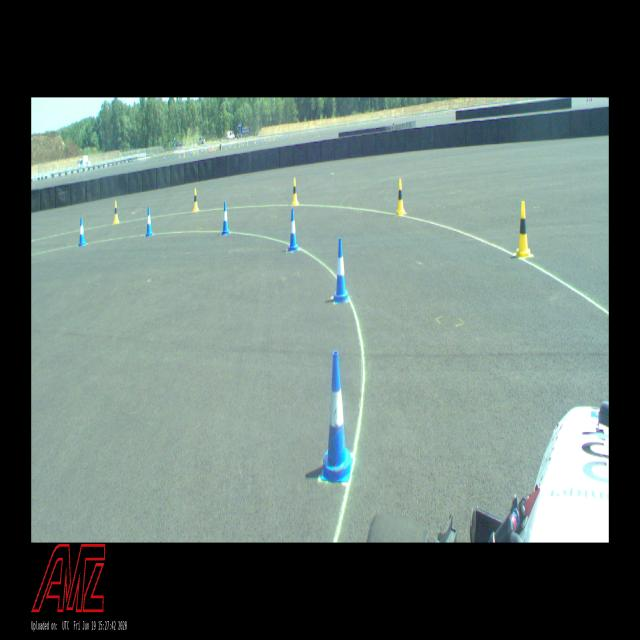blue_cone: (321, 351, 353, 483), (334, 238, 348, 303), (288, 208, 300, 252), (222, 201, 230, 235), (78, 217, 86, 246), (146, 208, 153, 238)
yellow_cone: (515, 201, 533, 257), (396, 179, 407, 215), (292, 177, 299, 206), (112, 200, 120, 224), (193, 188, 199, 211)
